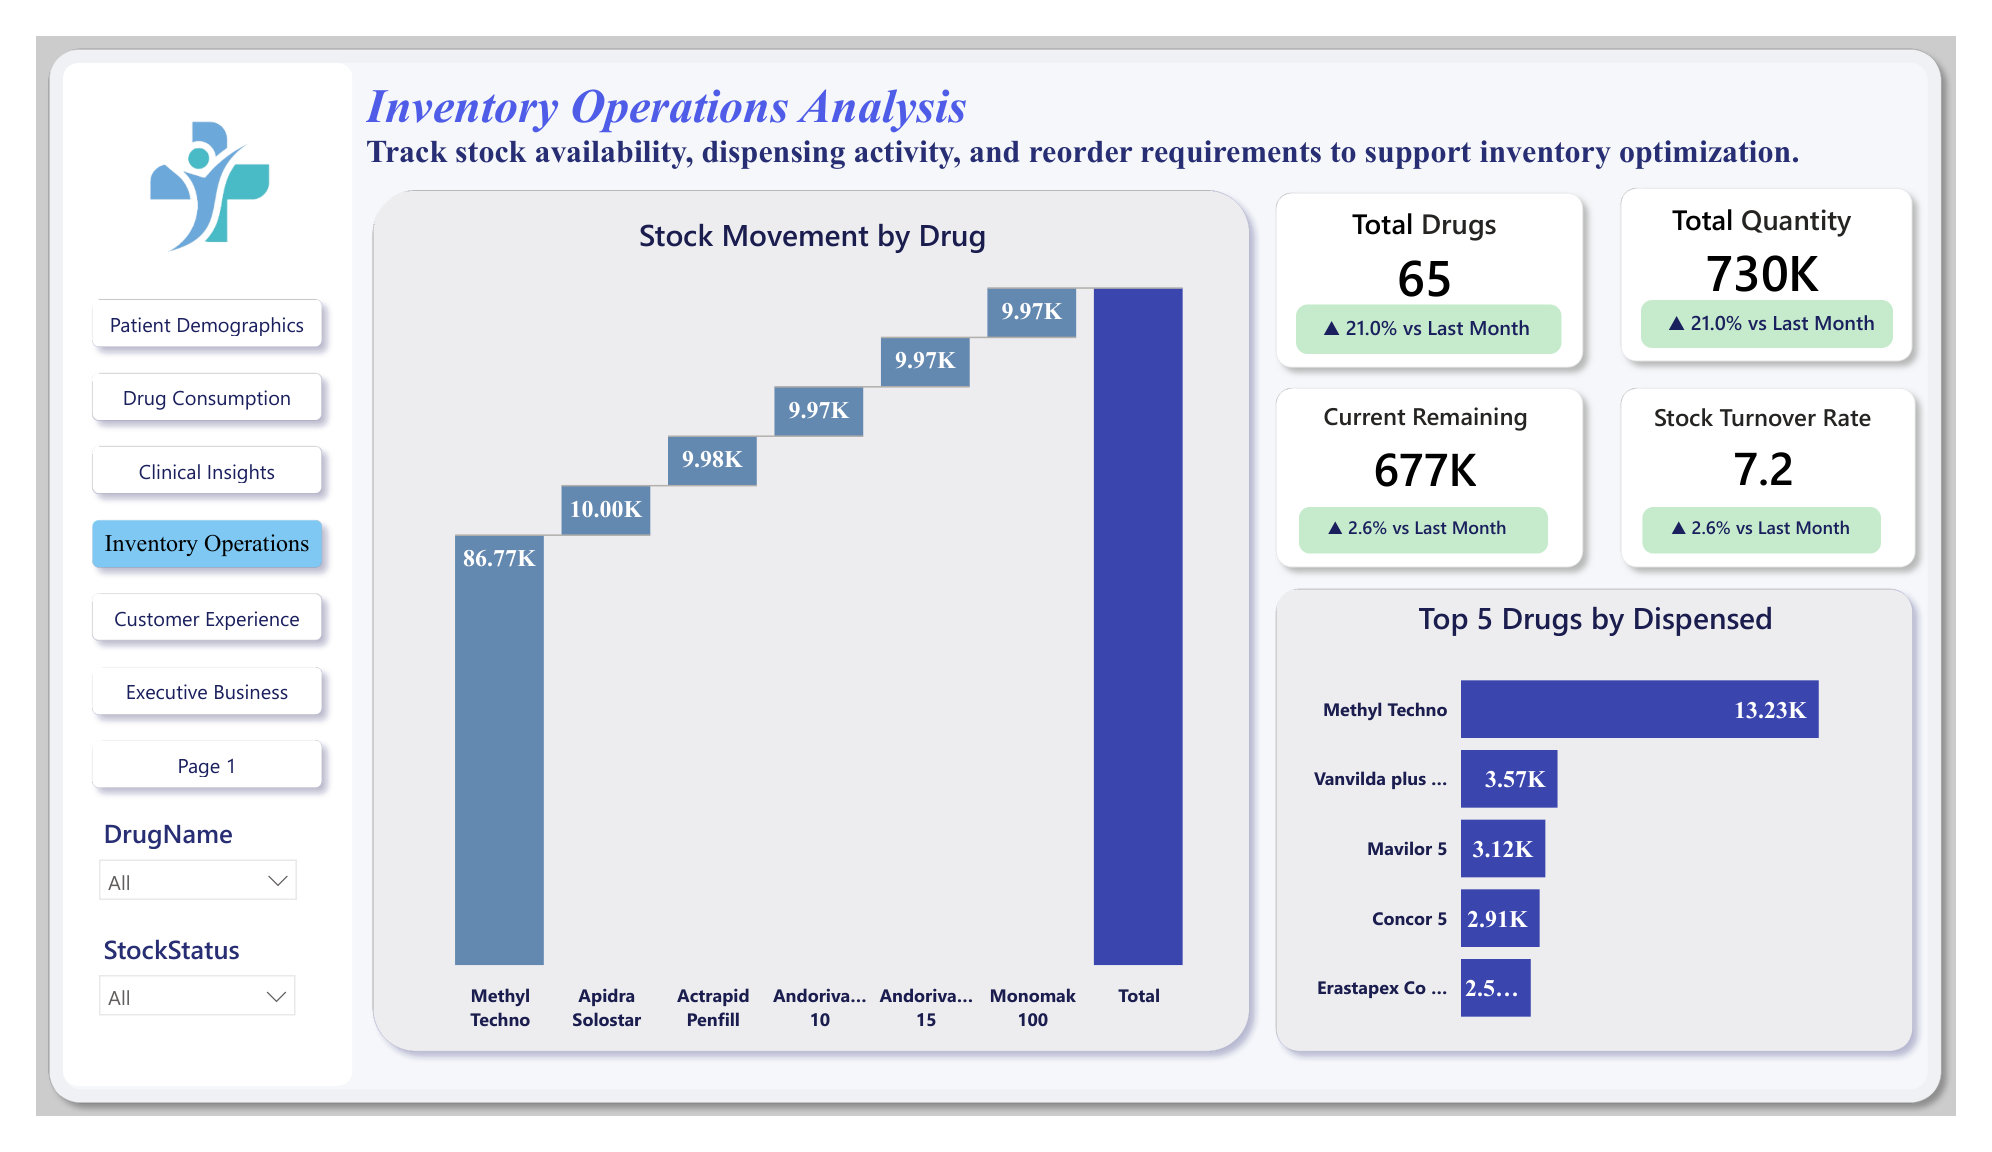

What the dashboard file says about the page in this screenshot:
{"tool":"powerbi","page":{"name":"Inventory Operations","canvas":[1280,720],"ordinal":3},"visuals":[{"type":"shape","box":[0,0,1279.3,719.9],"z":0},{"type":"shape","box":[1048.3,93.3,212,133.4],"z":0,"group":"g6"},{"type":"shape","box":[818,96,222.3,134],"z":0,"group":"g3"},{"type":"shape","box":[818,226,222,136.9],"z":0,"group":"g5"},{"type":"shape","box":[1047.5,226.2,214,136.9],"z":0,"group":"g4"},{"type":"shape","box":[841,313.2,167.4,32.6],"z":0,"group":"g1"},{"type":"shape","box":[1069.6,313.4,161.4,32.6],"z":0,"group":"g2"},{"type":"cardVisual","title":"Total Patients","fields":{"Data":["_MeasureTable.Total Quantity"]},"box":[1092.4,126.8,118,60],"z":500,"group":"g6"},{"type":"cardVisual","title":"Total Patients","fields":{"Data":["_MeasureTable.Total Drugs"]},"box":[864.3,129.7,123.7,60.3],"z":500,"group":"g3"},{"type":"shape","box":[18.3,18.3,192.6,681.7],"z":1000},{"type":"shape","box":[1068.9,175.4,170.5,34.2],"z":1000,"group":"g9"},{"type":"shape","box":[839.6,178.4,178.8,34.4],"z":1000,"group":"g10"},{"type":"cardVisual","title":"Total Patients","fields":{"Data":["_MeasureTable.Current Remaining"]},"box":[863.6,259.6,123.9,53.4],"z":1000,"group":"g5"},{"type":"cardVisual","title":"Total Patients","fields":{"Data":["_MeasureTable.Stock Turnover Rate"]},"box":[1091.7,259.6,119.5,53.4],"z":1000,"group":"g4"},{"type":"cardVisual","fields":{"Data":["_MeasureTable.Chronic Indicator"]},"box":[831.7,287.7,194,78.3],"z":1000,"group":"g1"},{"type":"cardVisual","fields":{"Data":["_MeasureTable.Chronic Indicator"]},"box":[1060.7,287.9,187,78.3],"z":1000,"group":"g2"},{"type":"image","box":[38.2,36.7,151.3,114.6],"z":2000},{"type":"cardVisual","fields":{"Data":["_MeasureTable.Growth Indicator"]},"box":[1059.1,151.3,207.3,64.5],"z":2000,"group":"g9"},{"type":"cardVisual","fields":{"Data":["_MeasureTable.Growth Indicator"]},"box":[829.3,154.2,217.4,64.8],"z":2000,"group":"g10"},{"type":"group","id":"g1","title":"Group 1","box":[831.7,287.7,194,78.3],"z":2000,"group":"g5"},{"type":"group","id":"g2","title":"Group 1","box":[1060.7,287.9,187,78.3],"z":2000,"group":"g4"},{"type":"textbox","box":[215.4,23.1,1010.8,72.3],"z":3000},{"type":"textbox","box":[834.9,237.5,182.7,32.2],"z":3000,"group":"g5"},{"type":"textbox","box":[1062.2,238.3,176.6,35.3],"z":3000,"group":"g4"},{"type":"group","id":"g3","title":"Card_1","box":[818,96,228,134],"z":4000},{"type":"group","id":"g4","title":"Card_3","box":[1047.5,226.2,213.8,140],"z":5000},{"type":"pageNavigator","box":[29,166.6,169.7,348.5],"z":6000},{"type":"group","id":"g5","title":"Card_3","box":[818,226,222,140],"z":7000},{"type":"group","id":"g6","title":"Card_1","box":[1048.3,93.3,216.7,135],"z":8000},{"type":"slicer","fields":{"Values":["Inventory.Drug_Name"]},"box":[32,514,152,76],"z":9000},{"type":"slicer","fields":{"Values":["Inventory.Stock Status"]},"box":[32.1,590.5,151.1,65.6],"z":10000},{"type":"group","id":"g7","title":"Group 2","box":[216,94,602,592],"z":11000},{"type":"shape","box":[216,94,602,592],"z":11000,"group":"g7"},{"type":"shape","box":[818,360,441.8,326.1],"z":11000,"group":"g8"},{"type":"waterfallChart","title":"Stock Movement by Drug","fields":{"Category":["Inventory.Drug_Name"],"Y":["Sum(Inventory.Current_Remaining)"]},"box":[237.5,117.8,561.4,553.6],"z":11500,"group":"g7"},{"type":"clusteredBarChart","title":"Top 5 Drugs by Dispensed","fields":{"Category":["Inventory.Drug_Name"],"Y":["Sum(Inventory.Total_Dispensed)"]},"box":[833.8,373.1,412,304.9],"z":11500,"group":"g8"},{"type":"group","id":"g8","title":"Group 2","box":[818,360,442,326],"z":12000},{"type":"group","id":"g9","title":"Group 4","box":[1059.1,151.3,206.7,64.4],"z":12502,"group":"g6"},{"type":"group","id":"g10","title":"Group 4","box":[829.3,154.2,216.7,64.7],"z":12502,"group":"g3"},{"type":"textbox","box":[1076.4,103.8,149,36],"z":13501,"group":"g6"},{"type":"textbox","box":[847.5,106.6,156.2,36.2],"z":13501,"group":"g3"}]}

Visuals, with their boxes in screenshot pixels (x1, y1, x2, y2), scaled from the page's 1280x720 canvas onto the 1992x1152 screenshot:
shape: bbox=(0, 0, 1991, 1151)
shape: bbox=(1631, 149, 1961, 363)
shape: bbox=(1273, 154, 1619, 368)
shape: bbox=(1273, 362, 1618, 581)
shape: bbox=(1630, 362, 1963, 581)
shape: bbox=(1309, 501, 1569, 553)
shape: bbox=(1665, 501, 1916, 554)
"Total Patients" cardVisual: bbox=(1700, 203, 1884, 299)
"Total Patients" cardVisual: bbox=(1345, 208, 1538, 304)
shape: bbox=(28, 29, 328, 1120)
shape: bbox=(1663, 281, 1929, 335)
shape: bbox=(1307, 285, 1585, 340)
"Total Patients" cardVisual: bbox=(1344, 415, 1537, 501)
"Total Patients" cardVisual: bbox=(1699, 415, 1885, 501)
cardVisual - _MeasureTable.Chronic Indicator: bbox=(1294, 460, 1596, 586)
cardVisual - _MeasureTable.Chronic Indicator: bbox=(1651, 461, 1942, 586)
image: bbox=(59, 59, 295, 242)
cardVisual - _MeasureTable.Growth Indicator: bbox=(1648, 242, 1971, 345)
cardVisual - _MeasureTable.Growth Indicator: bbox=(1291, 247, 1629, 350)
"Group 1" group: bbox=(1294, 460, 1596, 586)
"Group 1" group: bbox=(1651, 461, 1942, 586)
textbox: bbox=(335, 37, 1908, 153)
textbox: bbox=(1299, 380, 1584, 432)
textbox: bbox=(1653, 381, 1928, 438)
"Card_1" group: bbox=(1273, 154, 1628, 368)
"Card_3" group: bbox=(1630, 362, 1963, 586)
pageNavigator: bbox=(45, 267, 309, 824)
"Card_3" group: bbox=(1273, 362, 1618, 586)
"Card_1" group: bbox=(1631, 149, 1969, 365)
slicer - Inventory.Drug_Name: bbox=(50, 822, 286, 944)
slicer - Inventory.Stock Status: bbox=(50, 945, 285, 1050)
"Group 2" group: bbox=(336, 150, 1273, 1098)
shape: bbox=(336, 150, 1273, 1098)
shape: bbox=(1273, 576, 1961, 1098)
"Stock Movement by Drug" waterfallChart: bbox=(370, 188, 1243, 1074)
"Top 5 Drugs by Dispensed" clusteredBarChart: bbox=(1298, 597, 1939, 1085)
"Group 2" group: bbox=(1273, 576, 1961, 1098)
"Group 4" group: bbox=(1648, 242, 1970, 345)
"Group 4" group: bbox=(1291, 247, 1628, 350)
textbox: bbox=(1675, 166, 1907, 224)
textbox: bbox=(1319, 171, 1562, 228)
